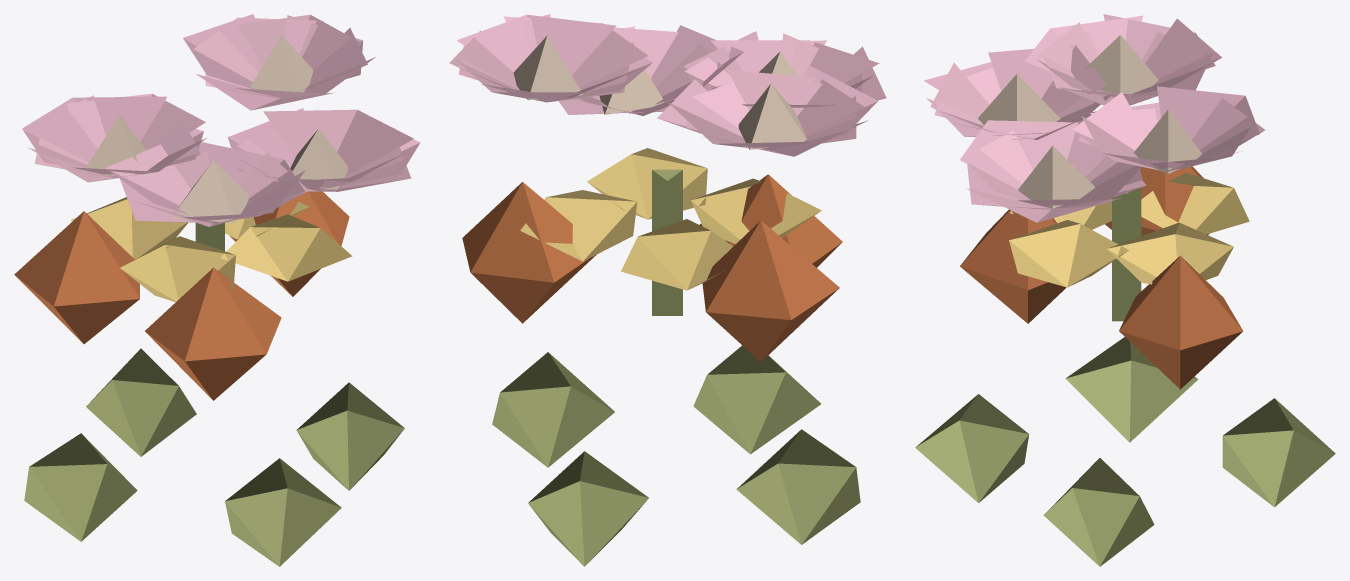
The model's file is shui.lian__autumn.glb.
3 views of the same model, side by side, from view 1: azimuth 30°, elevation 25°; view 2: azimuth 150°, elevation 25°; view 3: azimuth 270°, elevation 25° (orthographic). The views are drawn at different scales.
Parts seen in each view (by area): view 1: shui.lian__autumn; view 2: shui.lian__autumn; view 3: shui.lian__autumn.
Part boxes in pixels (x1,y1,x2,y2): shui.lian__autumn: (14, 14, 420, 566); shui.lian__autumn: (449, 14, 886, 566); shui.lian__autumn: (915, 14, 1335, 566).
Size of the model in its own units: 1.09 by 1.27 by 1.09.
